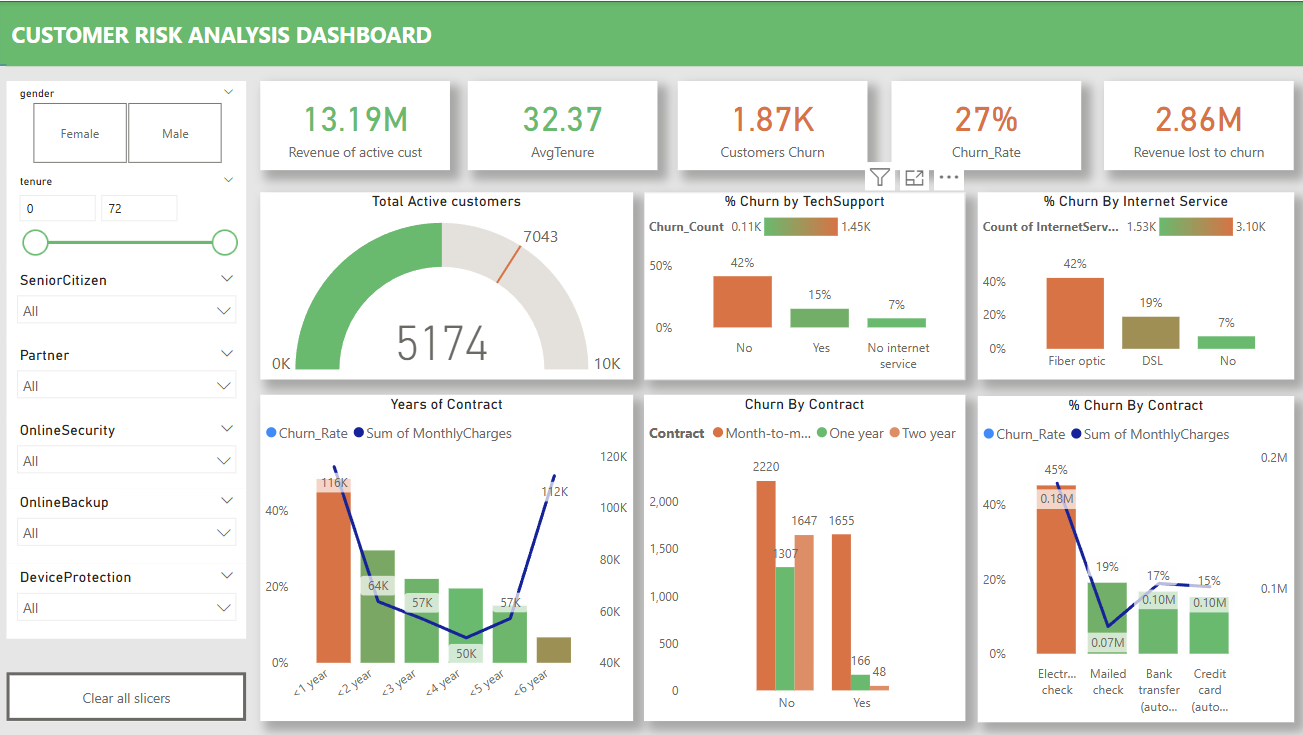

Layout of this report page (visuals, bound fields, positions):
{"tool":"powerbi","page":{"name":"Customer Risk Analysis","canvas":[1280,720],"ordinal":0},"visuals":[{"type":"shape","box":[0,0,1280.3,63.6],"z":0},{"type":"slicer","fields":{"Values":["Telecom_Customer_Churn.gender"]},"box":[7.3,78.3,234.8,86.8],"z":1000},{"type":"slicer","fields":{"Values":["Telecom_Customer_Churn.OnlineSecurity"]},"box":[7.3,406,234.8,70.9],"z":2000},{"type":"actionButton","box":[7.3,656.7,234.8,47.7],"z":3000},{"type":"gauge","title":"Total Active customers","fields":{"Y":["All Measures.Total active Customers"],"TargetValue":["All Measures.Total Count of customers"]},"box":[255.6,187.1,364.4,183.4],"z":4000},{"type":"card","fields":{"Values":["All Measures.Revenue of active customers"]},"box":[255.6,78.3,185.9,86.8],"z":5000},{"type":"card","fields":{"Values":["All Measures.AvgTenure"]},"box":[458.6,78.3,185.9,86.8],"z":6000},{"type":"card","fields":{"Values":["All Measures.Customers Churn"]},"box":[664,78.3,185.9,86.8],"z":7000},{"type":"card","fields":{"Values":["All Measures.Churn_Rate"]},"box":[873.1,78.3,185.9,86.8],"z":8000},{"type":"card","fields":{"Values":["All Measures.Revenue lost to churn"]},"box":[1081,78.3,185.9,86.8],"z":9000},{"type":"textbox","box":[7.3,13.5,1273,50.1],"z":10000},{"type":"lineStackedColumnComboChart","title":"Years of Contract","fields":{"Category":["Telecom_Customer_Churn.Tenurebracket"],"Y":["All Measures.Churn_Rate"],"Y2":["Sum(Telecom_Customer_Churn.MonthlyCharges)"]},"box":[255.6,385.2,364.4,319.2],"z":11000},{"type":"columnChart","title":"% Churn by TechSupport","fields":{"Y":["All Measures.Churn_Rate"],"Category":["Telecom_Customer_Churn.TechSupport"]},"box":[631,187.1,314.3,183.4],"z":12000},{"type":"columnChart","title":"% Churn By Internet Service","fields":{"Category":["Telecom_Customer_Churn.InternetService"],"Y":["All Measures.Churn_Rate"]},"box":[957.5,187.1,309.4,183.4],"z":13000},{"type":"clusteredColumnChart","title":"Churn By Contract","fields":{"Series":["Telecom_Customer_Churn.Contract"],"Category":["Telecom_Customer_Churn.Churn"],"Y":["CountNonNull(Telecom_Customer_Churn.customerID)"]},"box":[631,385.2,314.3,319.2],"z":14000},{"type":"slicer","fields":{"Values":["Telecom_Customer_Churn.SeniorCitizen"]},"box":[7.3,259.2,234.8,73.4],"z":15000},{"type":"lineStackedColumnComboChart","title":"% Churn By Contract","fields":{"Category":["Telecom_Customer_Churn.PaymentMethod"],"Y":["All Measures.Churn_Rate"],"Y2":["Sum(Telecom_Customer_Churn.MonthlyCharges)"]},"box":[957.5,386.4,309.4,319.2],"z":16000},{"type":"slicer","fields":{"Values":["Telecom_Customer_Churn.Partner"]},"box":[7.3,332.6,234.8,73.4],"z":17000},{"type":"slicer","fields":{"Values":["Telecom_Customer_Churn.OnlineBackup"]},"box":[7.3,476.9,234.8,73.4],"z":18000},{"type":"slicer","fields":{"Values":["Telecom_Customer_Churn.DeviceProtection"]},"box":[7.3,550.3,234.8,73.4],"z":19000},{"type":"slicer","fields":{"Values":["Telecom_Customer_Churn.tenure"]},"box":[7.3,165.1,234.8,94.2],"z":20000}]}

Visuals, with their boxes in screenshot pixels (x1, y1, x2, y2), scaled from the page's 1280x720 canvas onto the 1303x735 screenshot:
shape: 0:0:1302:65
slicer - Telecom_Customer_Churn.gender: 7:80:246:169
slicer - Telecom_Customer_Churn.OnlineSecurity: 7:414:246:487
actionButton: 7:670:246:719
"Total Active customers" gauge: 260:191:631:378
card - All Measures.Revenue of active customers: 260:80:449:169
card - All Measures.AvgTenure: 467:80:656:169
card - All Measures.Customers Churn: 676:80:865:169
card - All Measures.Churn_Rate: 889:80:1078:169
card - All Measures.Revenue lost to churn: 1100:80:1290:169
textbox: 7:14:1302:65
"Years of Contract" lineStackedColumnComboChart: 260:393:631:719
"% Churn by TechSupport" columnChart: 642:191:962:378
"% Churn By Internet Service" columnChart: 975:191:1290:378
"Churn By Contract" clusteredColumnChart: 642:393:962:719
slicer - Telecom_Customer_Churn.SeniorCitizen: 7:265:246:340
"% Churn By Contract" lineStackedColumnComboChart: 975:394:1290:720
slicer - Telecom_Customer_Churn.Partner: 7:340:246:414
slicer - Telecom_Customer_Churn.OnlineBackup: 7:487:246:562
slicer - Telecom_Customer_Churn.DeviceProtection: 7:562:246:637
slicer - Telecom_Customer_Churn.tenure: 7:169:246:265
